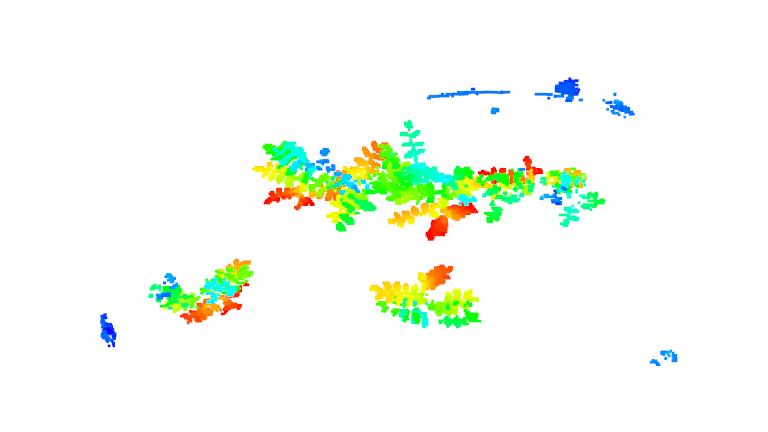chickpea: (387, 122, 480, 241), (474, 156, 607, 232), (369, 260, 489, 334), (143, 254, 256, 322), (249, 135, 339, 209), (332, 143, 391, 233)
